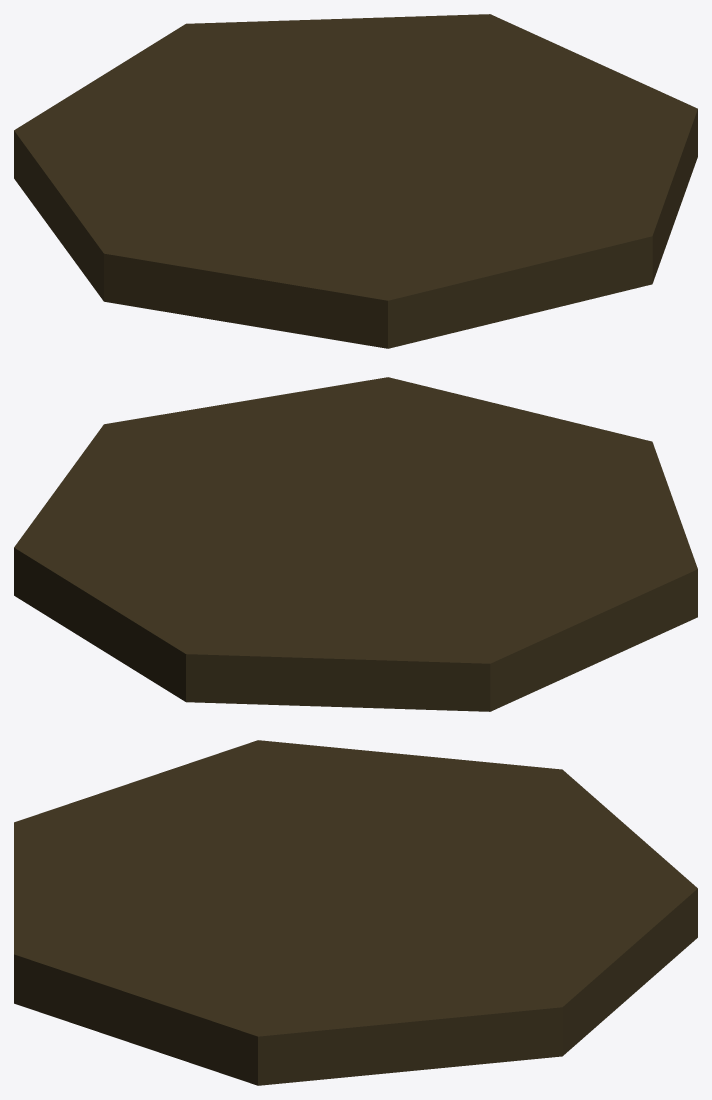
The model's file is Soil.fbx.
3 renders of one model, top to bottom at view 1: azimuth 30°, elevation 25°; view 2: azimuth 150°, elevation 25°; view 3: azimuth 270°, elevation 25°, orthographic. The views are drawn at different scales.
Visible parts, largest first — view 1: Cylinder.002; view 2: Cylinder.002; view 3: Cylinder.002.
Part boxes in pixels (x1,y1,x2,y2): Cylinder.002: [14, 14, 697, 348]; Cylinder.002: [14, 377, 697, 711]; Cylinder.002: [14, 740, 697, 1085].
Bounding box in the file's own units: 40.15 × 3.11 × 39.14.
